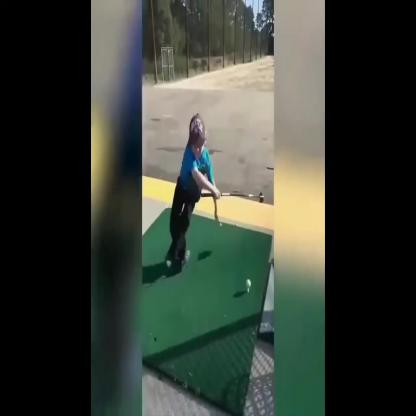Fall_Down: (164, 114, 224, 277)
